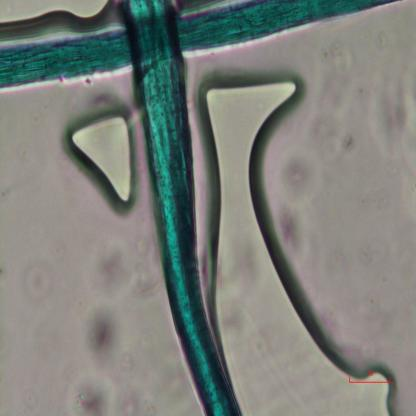Air bubble: (192, 77, 398, 414), (58, 105, 141, 213), (0, 0, 111, 28)
Background material: (71, 251, 136, 414), (316, 25, 367, 162), (270, 138, 322, 250), (373, 59, 416, 165), (23, 250, 56, 298)
Microfibre: (119, 0, 243, 414), (0, 0, 400, 87)
